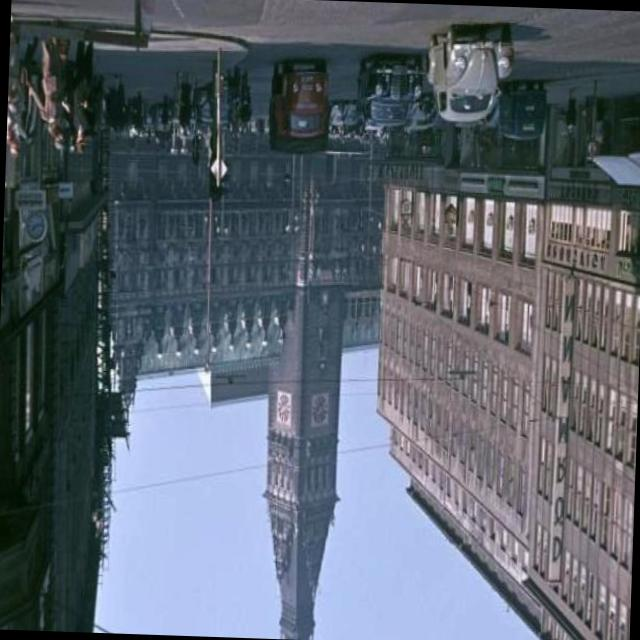car: (428, 20, 514, 124), (267, 58, 328, 146), (361, 54, 422, 138)
